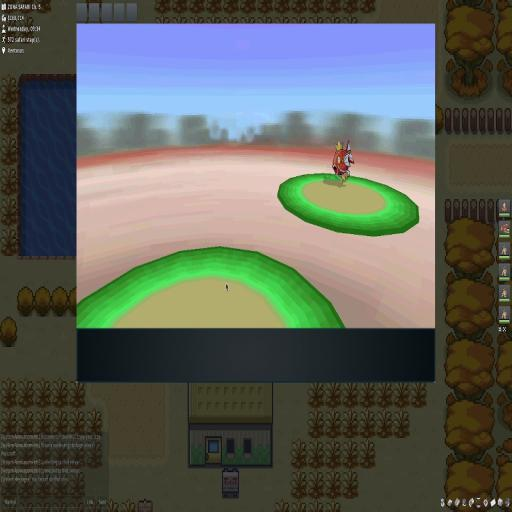MAGIKARP: (330, 132, 357, 187)
